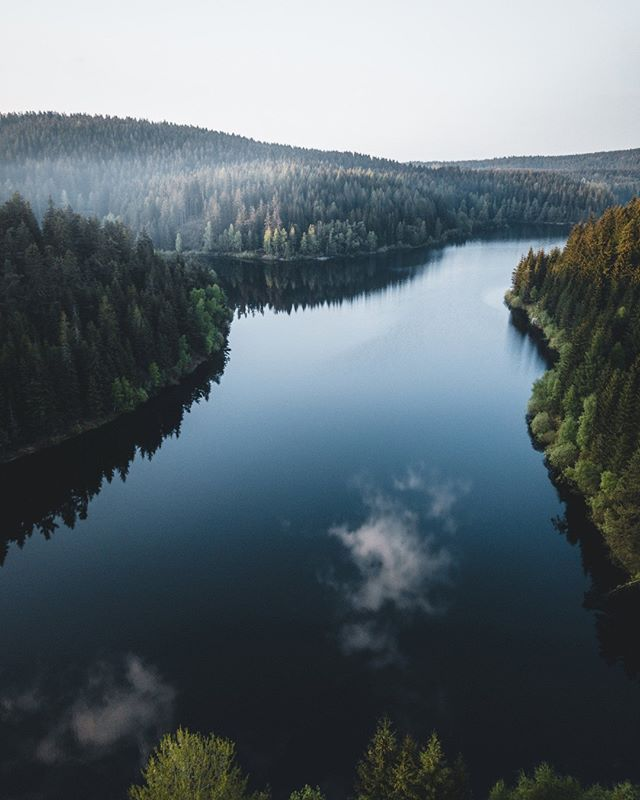river: (1, 236, 640, 797)
sky: (1, 1, 626, 136)
vegetation: (1, 218, 229, 427), (532, 212, 640, 509)
